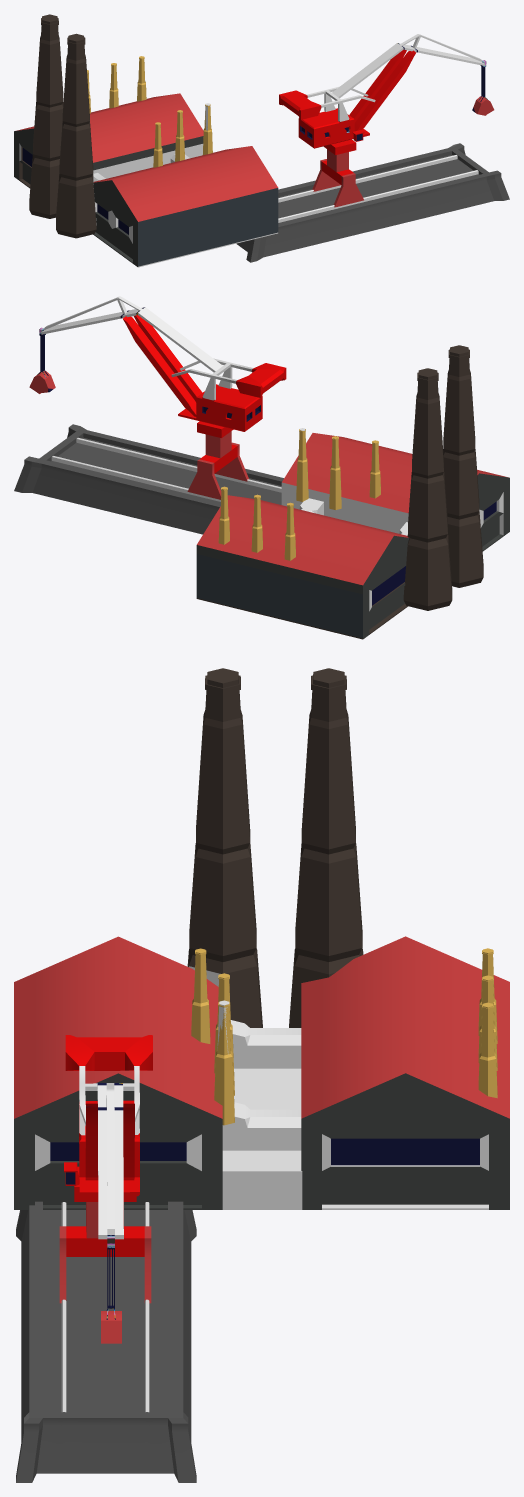
File: haven animation v2.fbx
The picture shows the model from 3 angles, top to bottom: view 1: azimuth 30°, elevation 25°; view 2: azimuth 150°, elevation 25°; view 3: azimuth 270°, elevation 25°; orthographic projection. The views are drawn at different scales.
Parts seen in each view (by area): view 1: polySurface31, polySurface18; view 2: polySurface31, polySurface18; view 3: polySurface31, polySurface18.
Part boxes in pixels (x1,y1,x2,y2): polySurface31: [14, 14, 509, 267]; polySurface18: [279, 34, 494, 148]; polySurface31: [14, 345, 509, 639]; polySurface18: [29, 296, 286, 431]; polySurface31: [14, 668, 509, 1482]; polySurface18: [64, 1035, 152, 1343].
Bounding box in the file's own units: 147 × 74.68 × 77.29.
